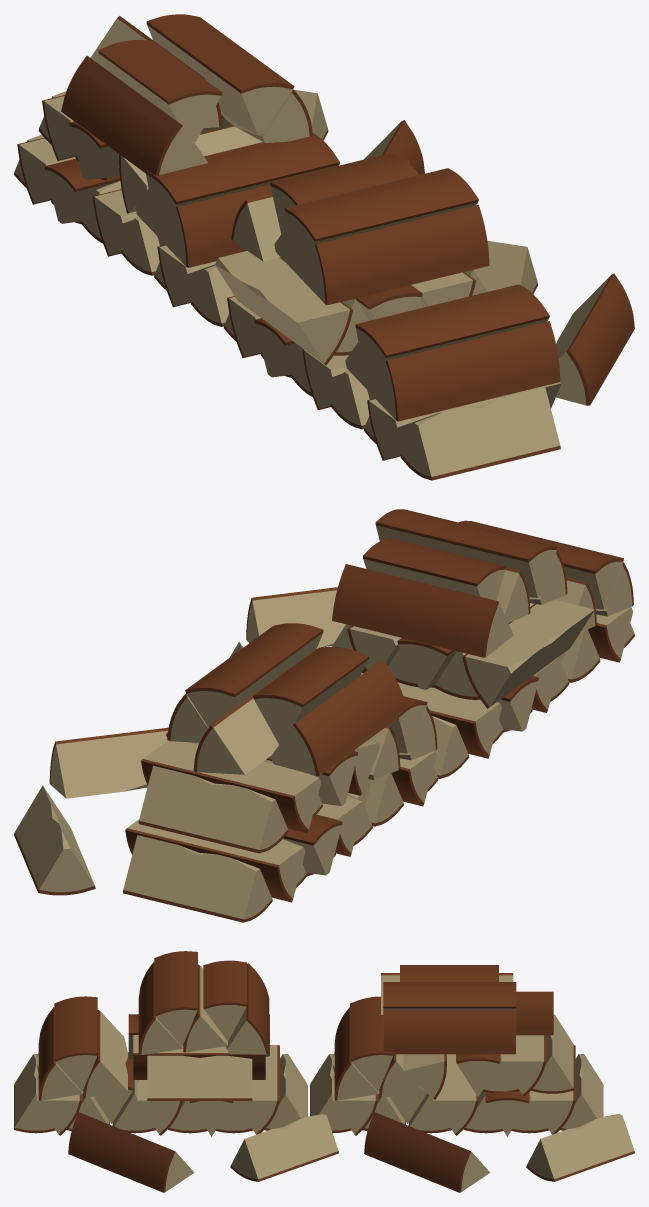
Rendered from Wooden_Log.fbx.
The picture shows the model from 3 angles, top to bottom: view 1: azimuth 30°, elevation 25°; view 2: azimuth 150°, elevation 25°; view 3: azimuth 270°, elevation 25°; orthographic projection. The views are drawn at different scales.
Parts seen in each view (by area): view 1: Wooden_Log; view 2: Wooden_Log; view 3: Wooden_Log.
Part boxes in pixels (x1,y1,x2,y2): Wooden_Log: [14, 14, 634, 480]; Wooden_Log: [14, 509, 634, 922]; Wooden_Log: [14, 951, 634, 1192].
Size of the model in its own units: 116 by 58.17 by 248.
